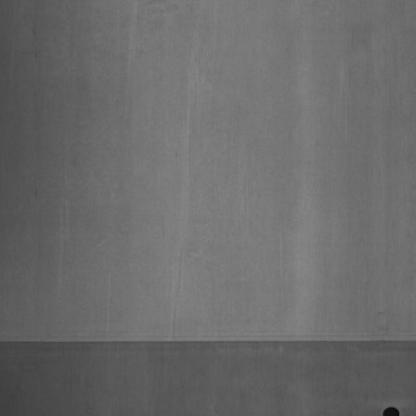welding_line: (0, 325, 415, 361)
